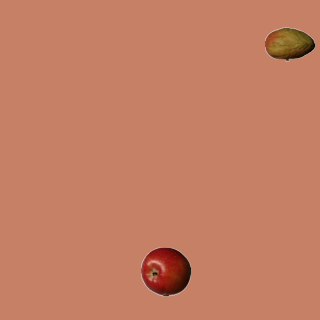Apple Braeburn: (140, 246, 190, 296)
Papaya: (264, 19, 314, 69)
